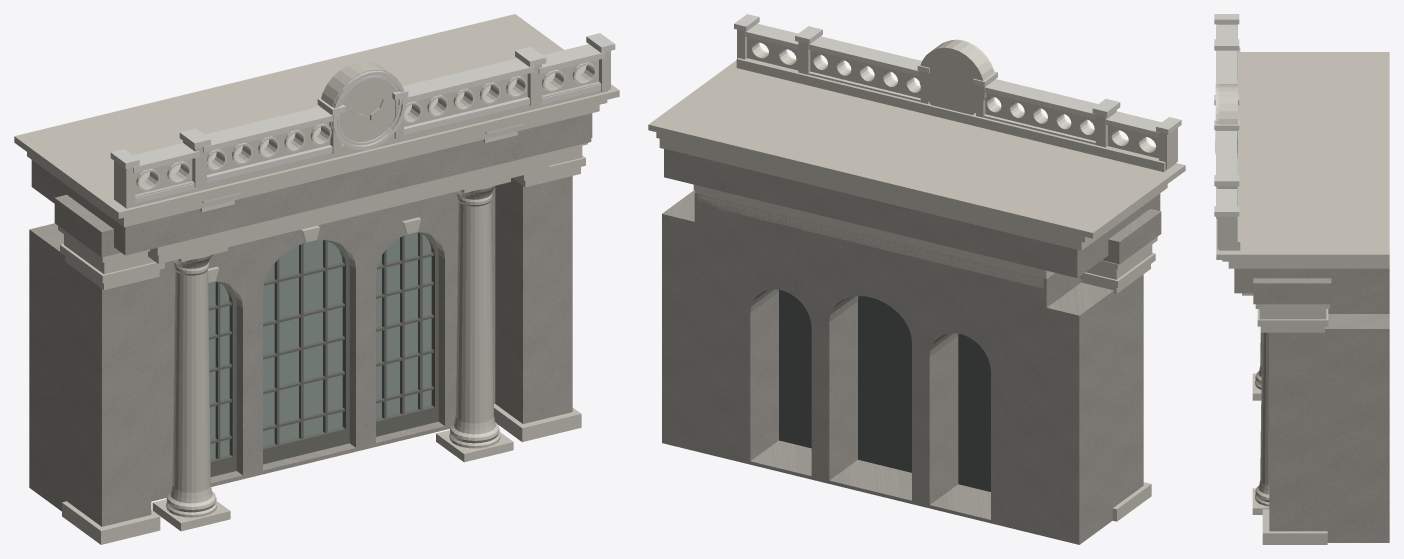
Rendered from huangpu-salt-industry-bank-entrance-lod.glb.
3 renders of one model, left to right at view 1: azimuth 30°, elevation 25°; view 2: azimuth 150°, elevation 25°; view 3: azimuth 270°, elevation 25°, orthographic. The views are drawn at different scales.
Visible parts, largest first — view 1: 盐业大楼北京东路280号门罩与石栏; view 2: 盐业大楼北京东路280号门罩与石栏; view 3: 盐业大楼北京东路280号门罩与石栏.
Boxes of the visible parts, left/top/right/bottom form: 盐业大楼北京东路280号门罩与石栏: left=14, top=14, right=619, bottom=544; 盐业大楼北京东路280号门罩与石栏: left=648, top=14, right=1185, bottom=544; 盐业大楼北京东路280号门罩与石栏: left=1214, top=14, right=1389, bottom=544.
Size of the model in its own units: 8.28 by 6.87 by 3.03.
Materials: 6 (1 with a texture image).
